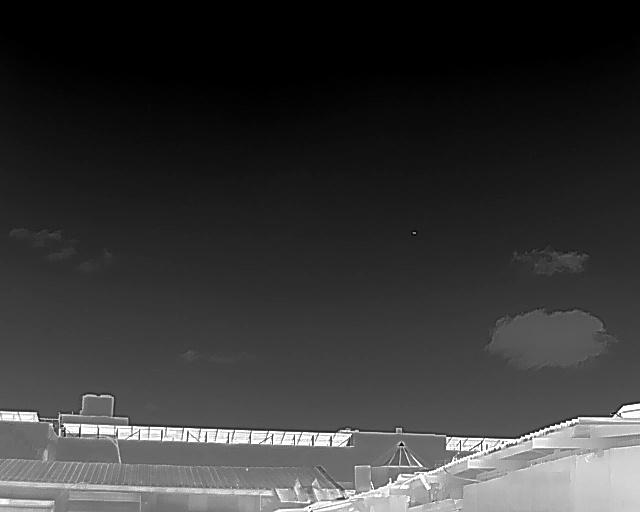fpv-drone: (411, 230, 417, 235)
